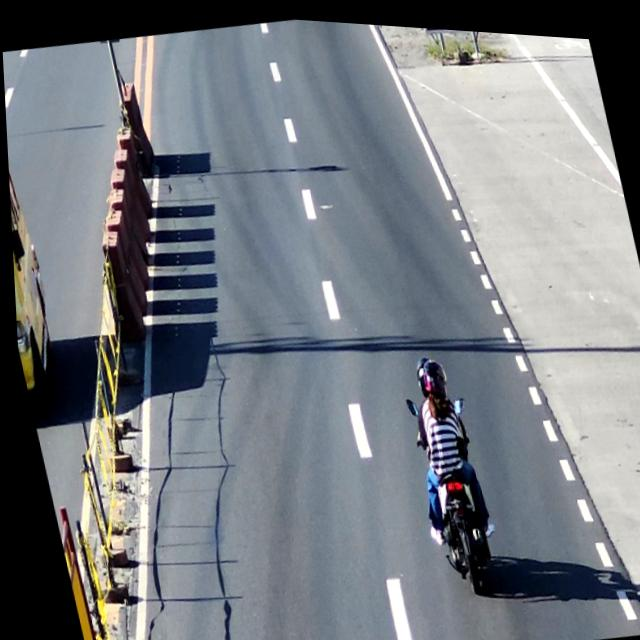Motorcycle: (384, 336, 515, 600)
